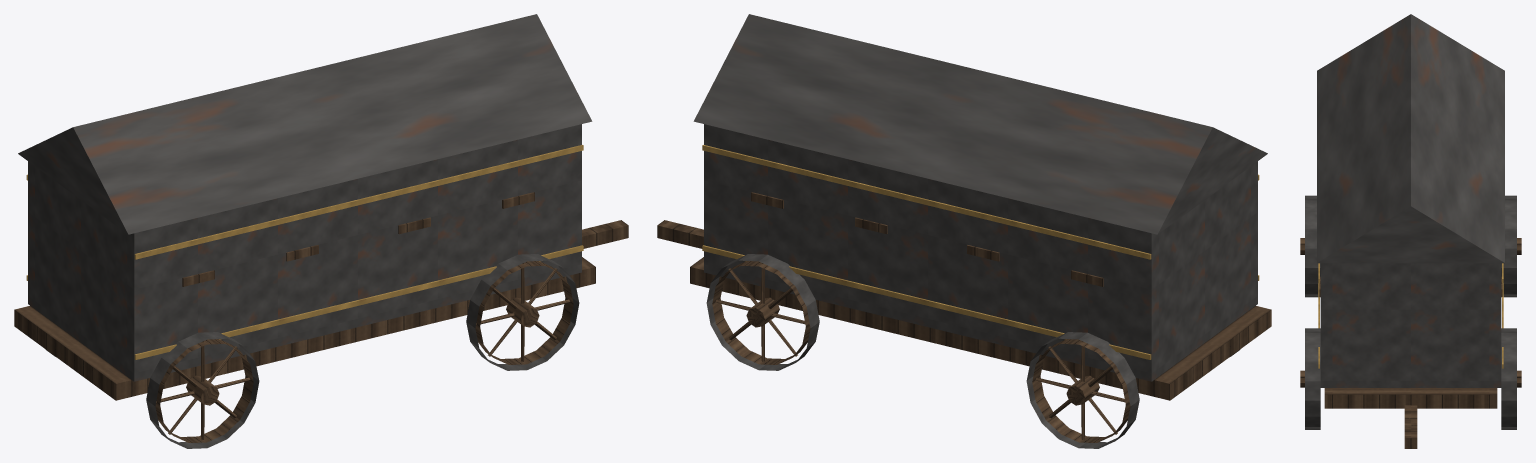
The model's file is Wagon_Armored_1.gltf.
The picture shows the model from 3 angles, left to right: view 1: azimuth 30°, elevation 25°; view 2: azimuth 150°, elevation 25°; view 3: azimuth 270°, elevation 25°; orthographic projection. The views are drawn at different scales.
Parts seen in each view (by area): view 1: Wagon_Armored_1; view 2: Wagon_Armored_1; view 3: Wagon_Armored_1.
Boxes of the visible parts, x1=… form: Wagon_Armored_1: x1=14, y1=14, x2=628, y2=448; Wagon_Armored_1: x1=657, y1=14, x2=1271, y2=448; Wagon_Armored_1: x1=1300, y1=14, x2=1521, y2=448.
Size of the model in its own units: 7 by 3.5 by 2.82.
Materials: 3 (3 with a texture image).
